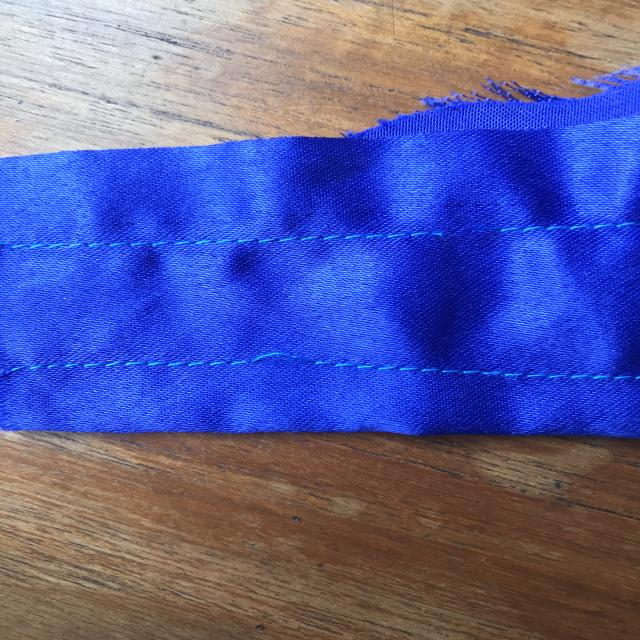broken: (403, 210, 535, 252)
good: (130, 231, 312, 260)
skip: (227, 341, 346, 386)
